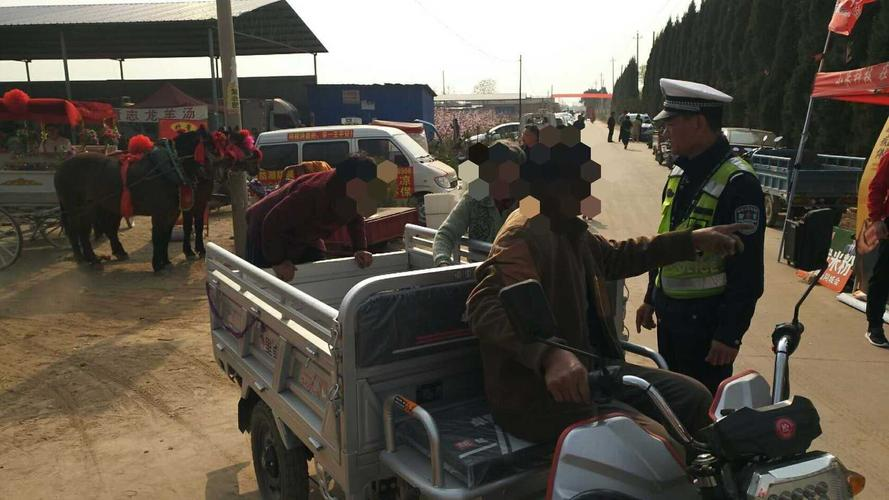driver: (483, 118, 716, 468)
overloading: (173, 76, 754, 487)
passenger: (220, 124, 387, 289), (433, 123, 521, 291)
